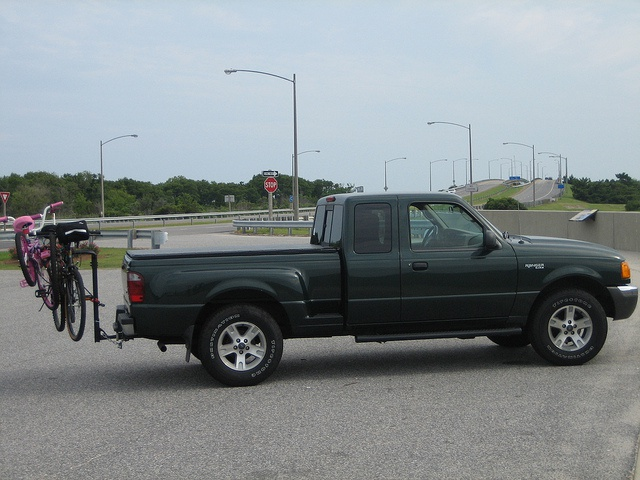non-vehicle: (0, 200, 63, 311), (43, 242, 85, 342)
